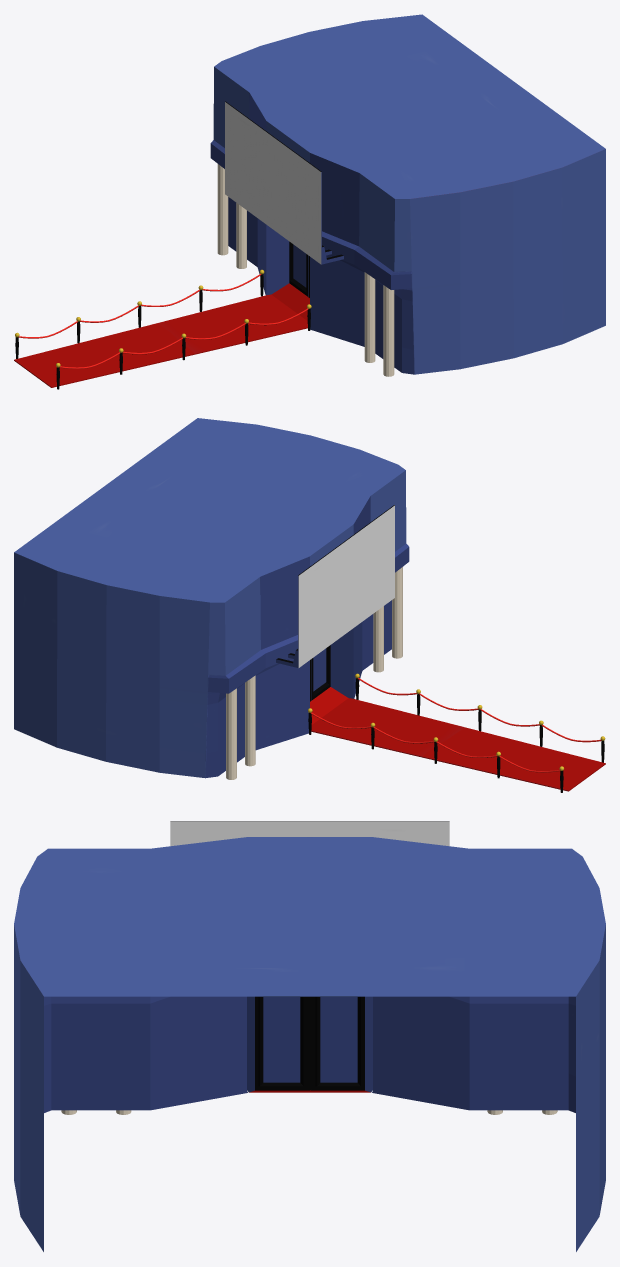
The model's file is theatre.gltf.
3 renders of one model, top to bottom at view 1: azimuth 30°, elevation 25°; view 2: azimuth 150°, elevation 25°; view 3: azimuth 270°, elevation 25°, orthographic. The views are drawn at different scales.
Visible parts, largest first — view 1: Cube.001, Cylinder.002, Cylinder.001; view 2: Cube.001, Cylinder.001, Cylinder.002; view 3: Cube.001.
Part boxes in pixels (x1,y1,x2,y2): Cube.001: (14,14,605,387); Cylinder.002: (56,304,311,389); Cylinder.001: (15,269,264,358); Cube.001: (14,418,605,791); Cylinder.001: (308,708,564,792); Cylinder.002: (355,673,605,762); Cube.001: (14,821,605,1251).
Bounding box in the file's own units: 25.96 × 9.52 × 19.09.
Materials: 3 (3 with a texture image).
